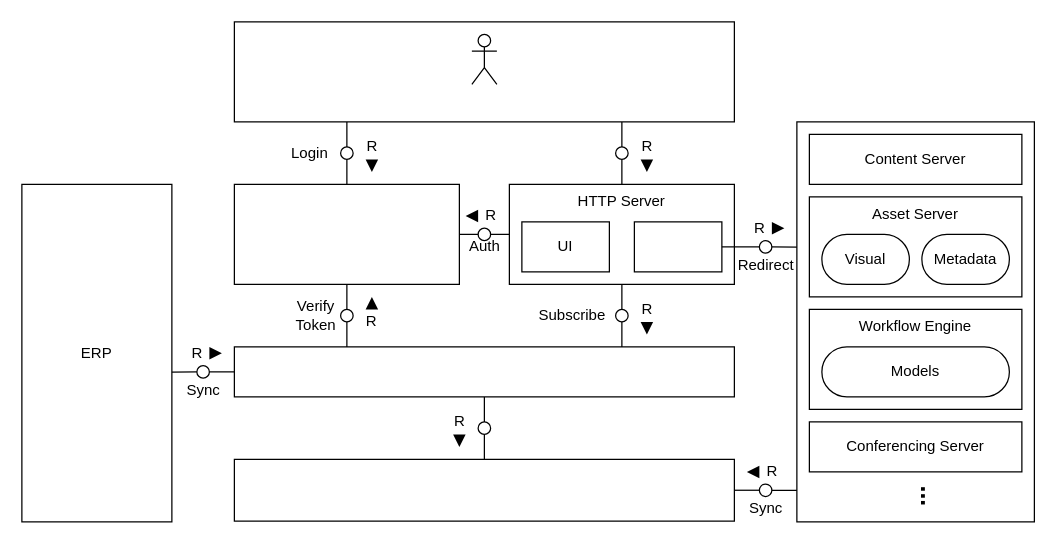
Some shapes in this 1056 by 544 pixel diagram are drawn without their labels. The shapes that lost their labels are listed below. From the top down, each one's centre as x and y in pixels, then its label:
At pixel 484 58: "User".
At pixel 346 233: "Identitiy Management".
At pixel 677 246: "Proxy".
At pixel 483 371: "Stream Server".
At pixel 483 489: "NoSQL DB".
